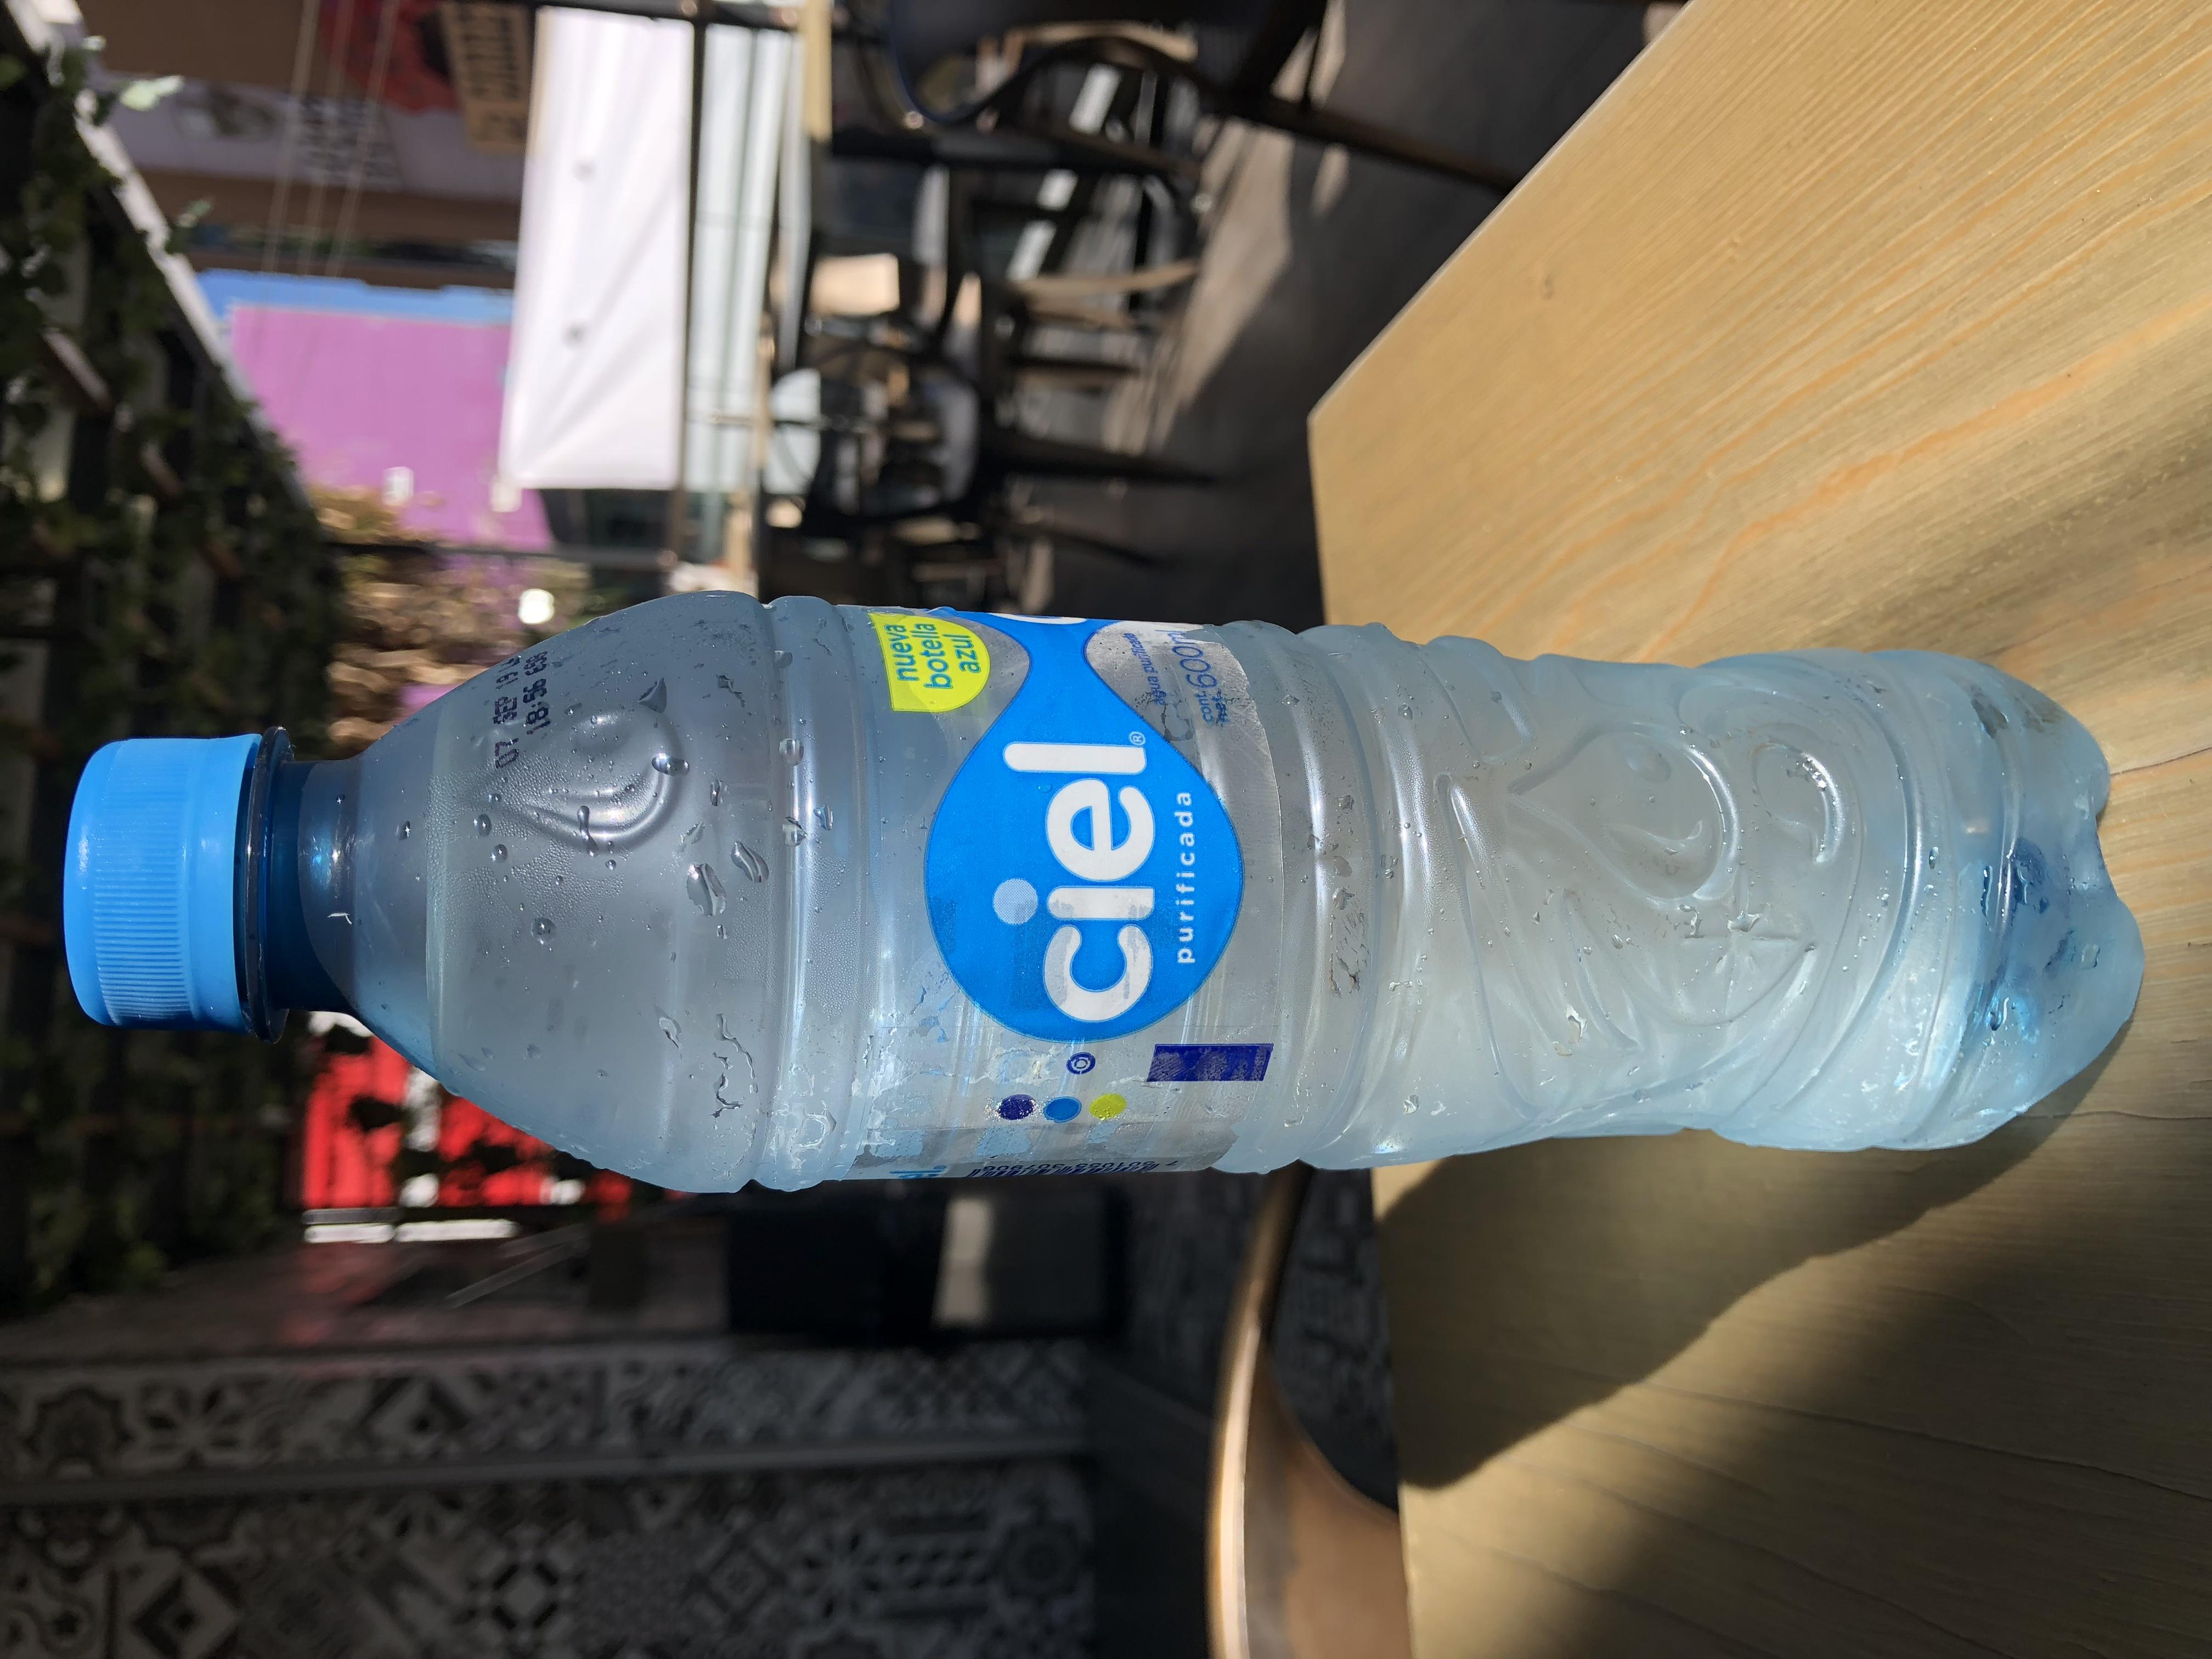bottle: (589, 17, 1477, 1629)
